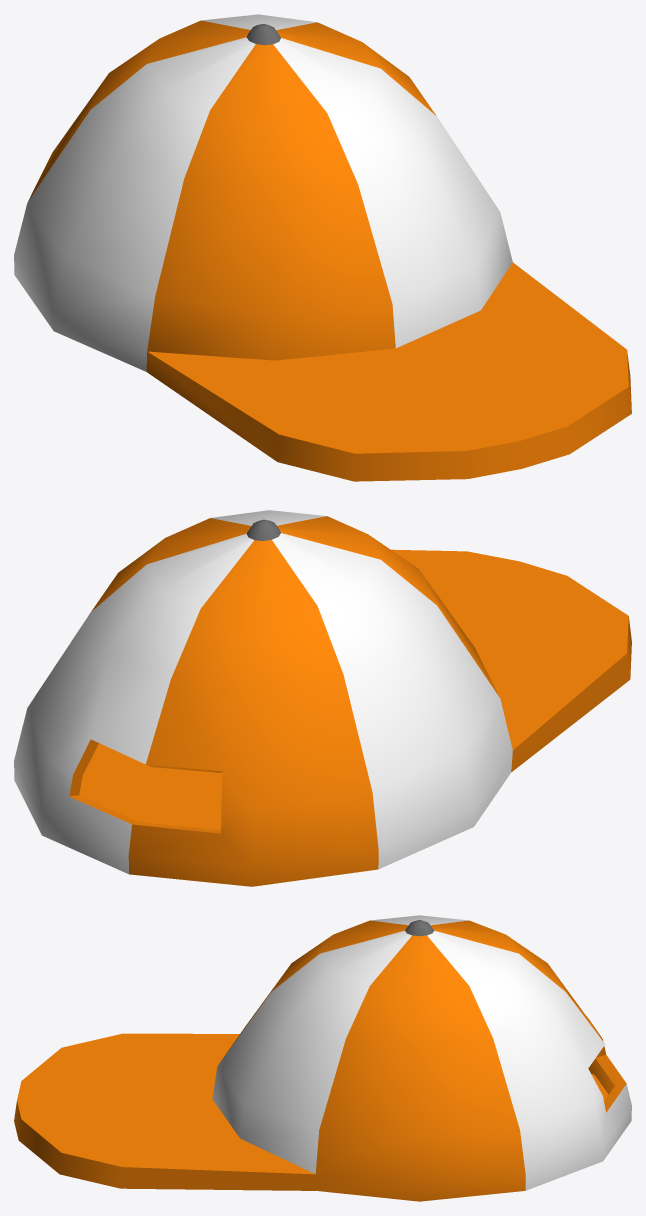
File: Cap_2.fbx
3 renders of one model, top to bottom at view 1: azimuth 30°, elevation 25°; view 2: azimuth 150°, elevation 25°; view 3: azimuth 270°, elevation 25°, orthographic. The views are drawn at different scales.
Visible parts, largest first — view 1: Cap_2; view 2: Cap_2; view 3: Cap_2.
Boxes of the visible parts, x1=… form: Cap_2: x1=14, y1=14, x2=631, y2=481; Cap_2: x1=14, y1=510, x2=631, y2=886; Cap_2: x1=14, y1=915, x2=631, y2=1201.
Size of the model in its own units: 0.151 by 0.0872 by 0.2443.
